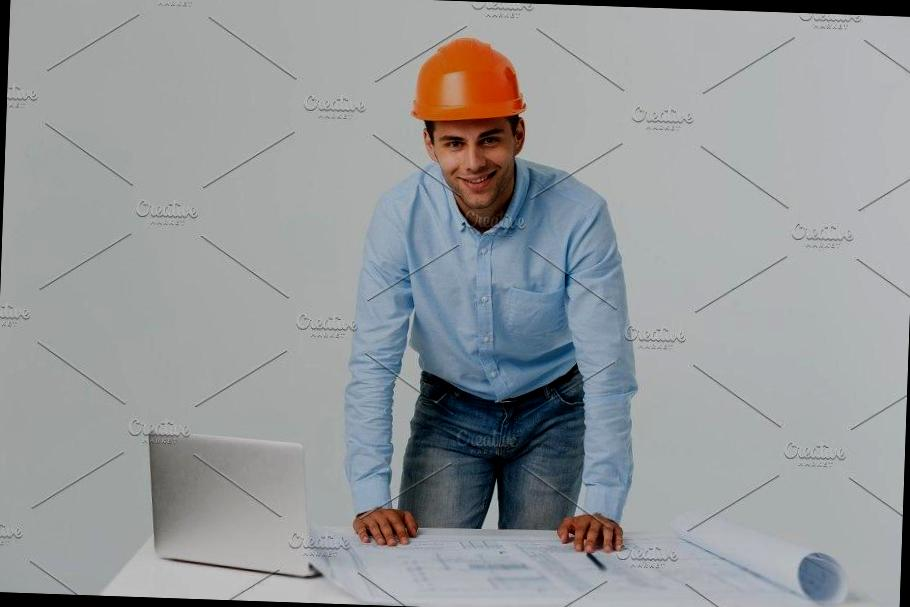helmet: (412, 35, 530, 122)
no_vest: (386, 164, 584, 470)
person: (337, 34, 654, 554)
